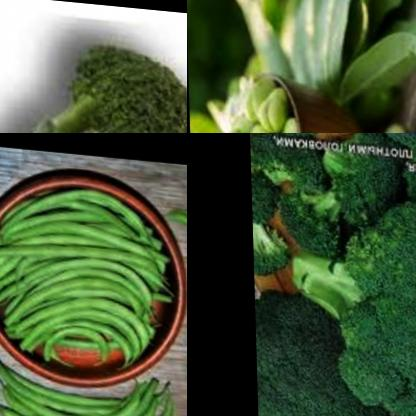beans: (0, 176, 175, 372), (0, 369, 177, 416), (199, 66, 298, 133), (365, 104, 405, 133)
broccoli: (291, 187, 416, 416), (0, 4, 187, 133), (250, 133, 409, 248), (255, 313, 378, 416), (398, 133, 416, 211)
